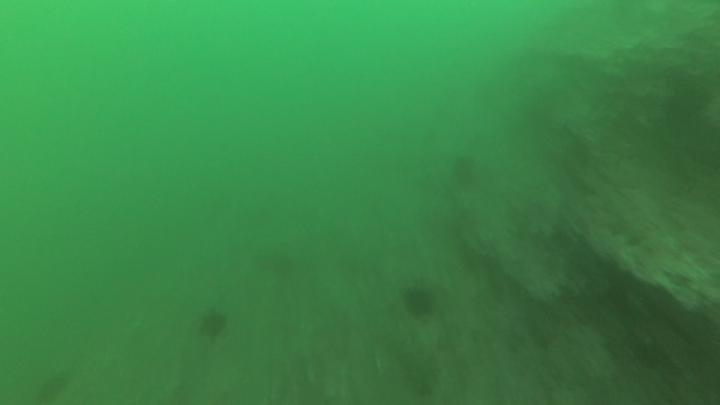echinus: (404, 279, 438, 325), (197, 308, 228, 341)
